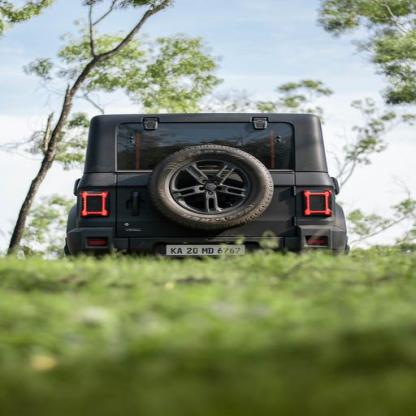Tire: (147, 144, 274, 231)
